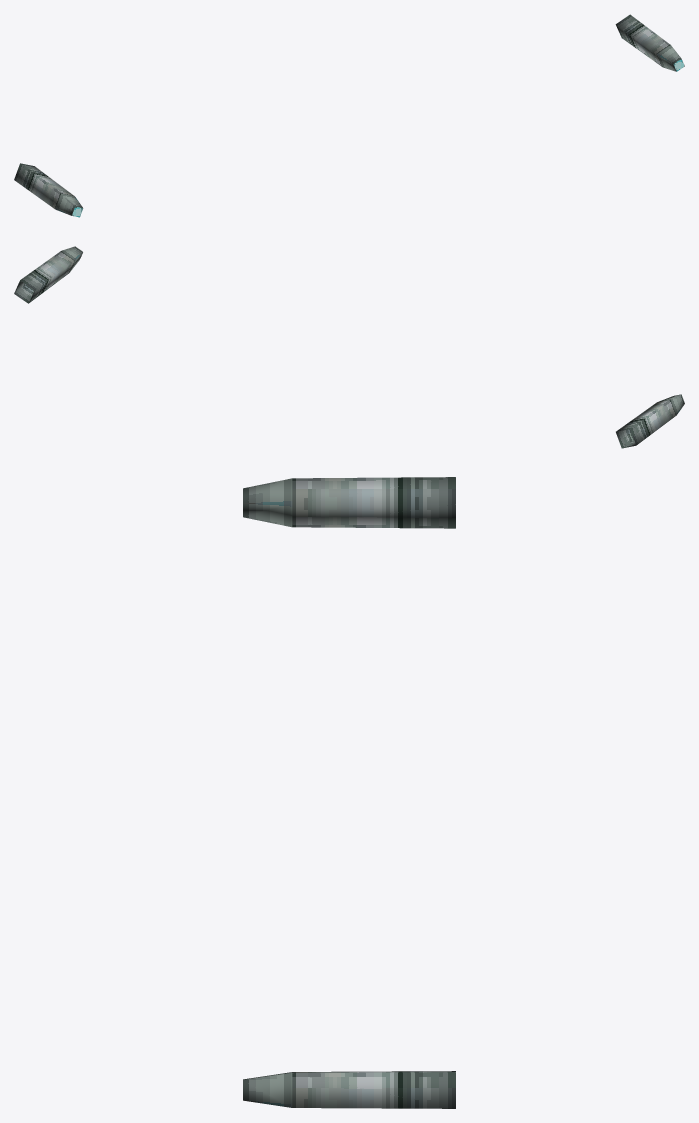
The model's file is black_sun_fighter_light_weapon_s02_l2.fbx.
The picture shows the model from 3 angles, top to bottom: view 1: azimuth 30°, elevation 25°; view 2: azimuth 150°, elevation 25°; view 3: azimuth 270°, elevation 25°; orthographic projection. The views are drawn at different scales.
Parts seen in each view (by area): view 1: mesh_node; view 2: mesh_node; view 3: mesh_node.
Boxes of the visible parts, <box> form: mesh_node: <box>14,14,684,217</box>; mesh_node: <box>14,246,684,448</box>; mesh_node: <box>243,477,455,1108</box>.
Bounding box in the file's own units: 11.4 × 0.379 × 1.69.
1 material, 1 textured.
